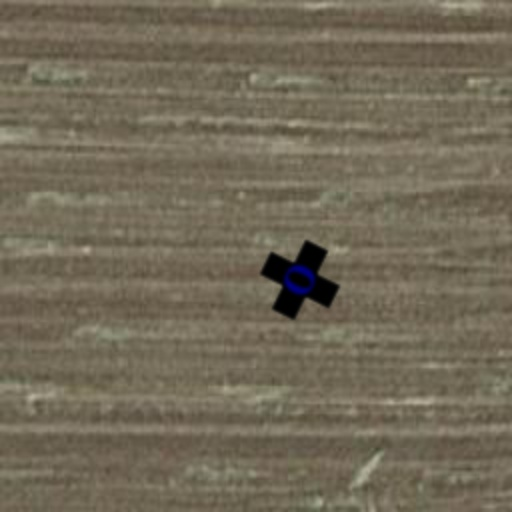cross: (246, 226, 354, 334)
